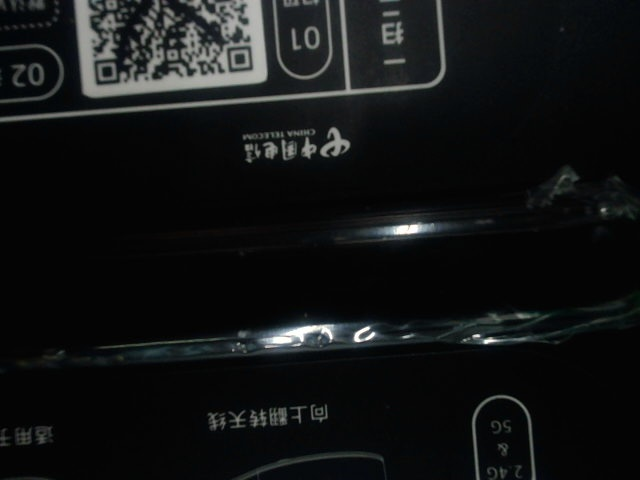AB_ChinaTelecom: (235, 124, 361, 165)
